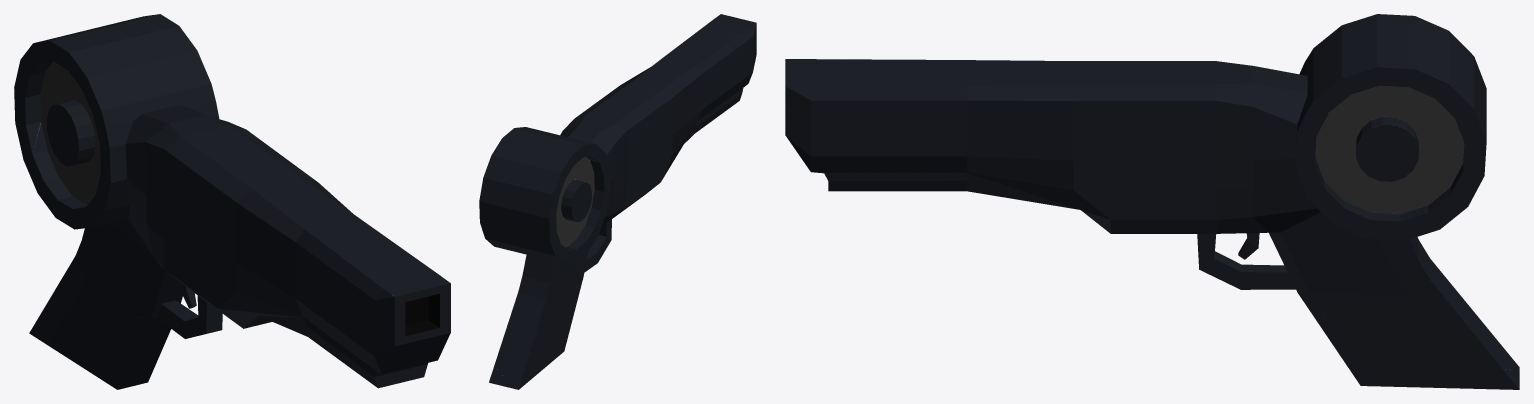
The model's file is Grapple_Gun.fbx.
3 renders of one model, left to right at view 1: azimuth 30°, elevation 25°; view 2: azimuth 150°, elevation 25°; view 3: azimuth 270°, elevation 25°, orthographic. The views are drawn at different scales.
Visible parts, largest first — view 1: Grapple Gun; view 2: Grapple Gun; view 3: Grapple Gun.
Part boxes in pixels (x1=…): Grapple Gun: x1=14, y1=14, x2=450, y2=389; Grapple Gun: x1=479, y1=14, x2=756, y2=389; Grapple Gun: x1=785, y1=14, x2=1519, y2=389.
Bounding box in the file's own units: 56.42 × 163 × 320.
